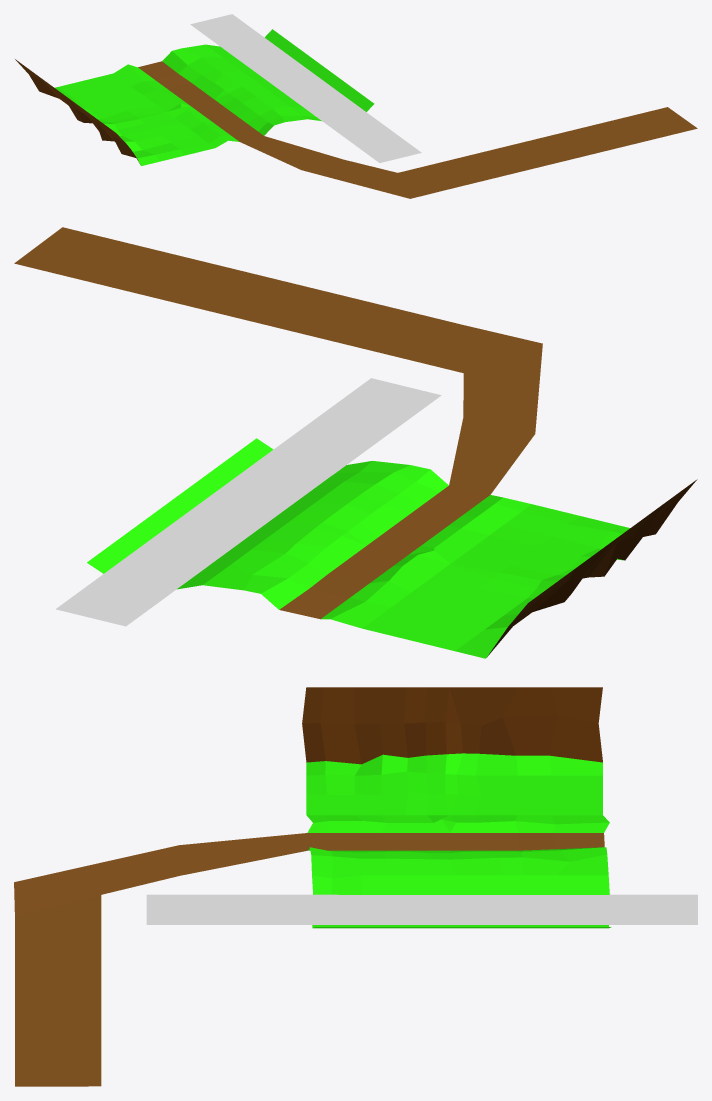
File: fase_1.fbx
3 renders of one model, top to bottom at view 1: azimuth 30°, elevation 25°; view 2: azimuth 150°, elevation 25°; view 3: azimuth 270°, elevation 25°, orthographic. The views are drawn at different scales.
Visible parts, largest first — view 1: Plane, Plane.003, Plane.001, Plane.002; view 2: Plane, Plane.003, Plane.001, Plane.002; view 3: Plane, Plane.003, Plane.002, Plane.001.
Part boxes in pixels (x1,y1,x2,y2): Plane: (54, 29, 374, 165); Plane.003: (138, 61, 697, 198); Plane.001: (190, 14, 421, 162); Plane.002: (15, 59, 140, 164); Plane: (87, 438, 629, 658); Plane.003: (14, 227, 542, 619); Plane.001: (56, 378, 441, 626); Plane.002: (487, 479, 697, 656); Plane: (306, 753, 611, 928); Plane.003: (14, 833, 604, 1086); Plane.002: (302, 687, 602, 764); Plane.001: (146, 894, 697, 924).
Bounding box in the file's own units: 37706 × 3228 × 31898.
